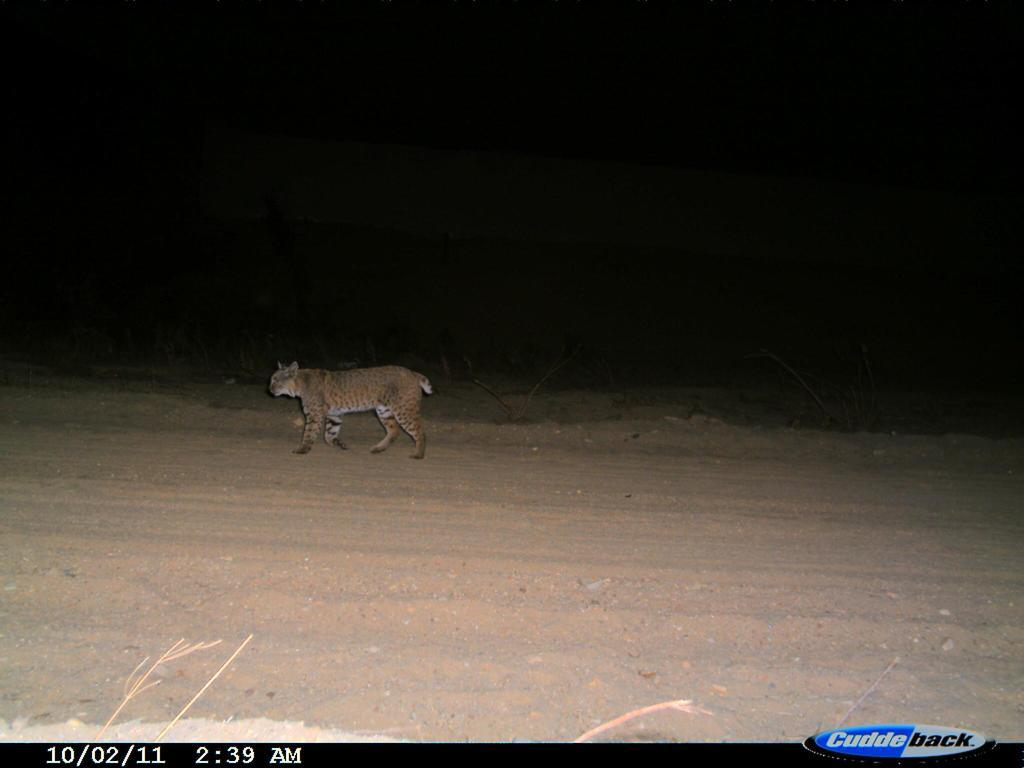bobcat: (260, 350, 440, 468)
